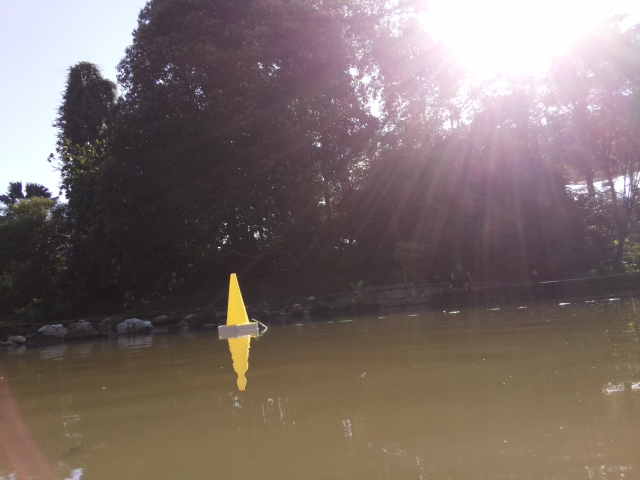checkpoint: (217, 271, 260, 339)
